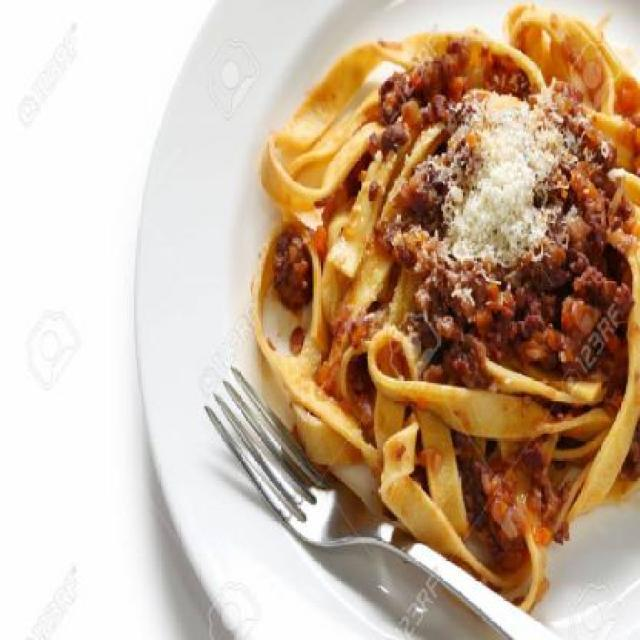Pasta al ragu: (250, 16, 639, 573)
